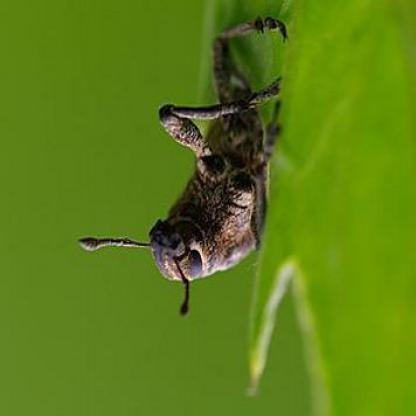rice-bug: (118, 13, 293, 300)
